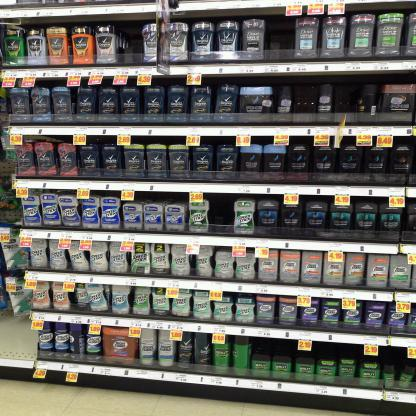Void: (254, 339, 315, 360), (335, 80, 360, 122), (292, 84, 317, 122), (270, 19, 292, 62), (121, 21, 142, 62), (211, 197, 234, 234), (322, 342, 359, 356), (381, 347, 404, 368)
